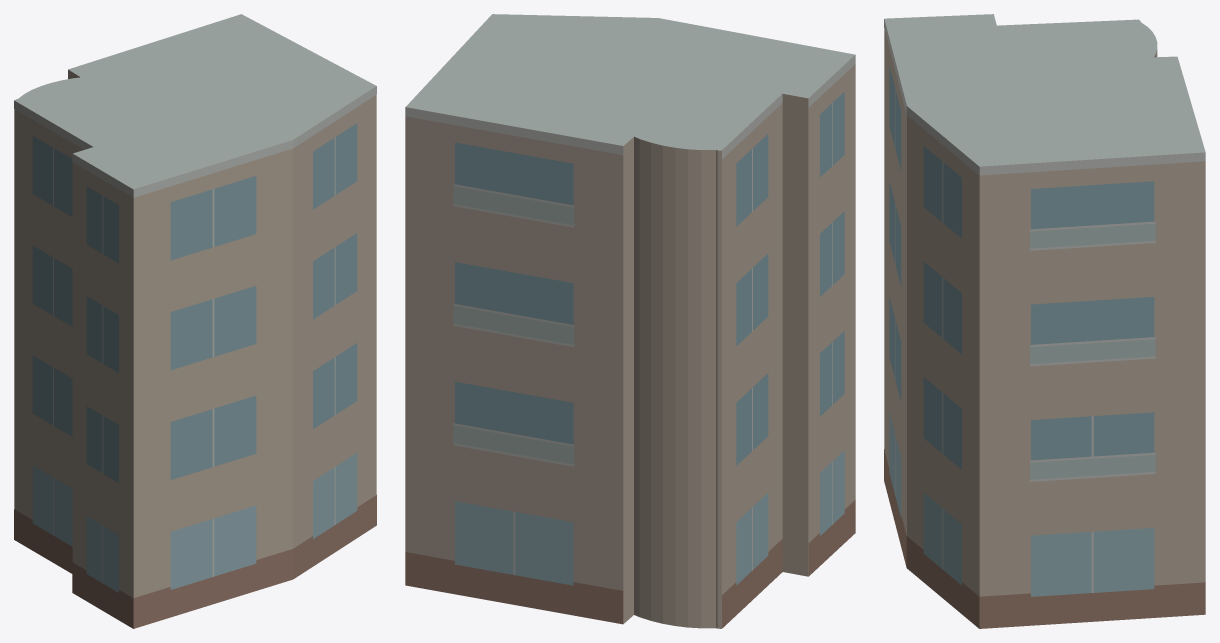
File: survey-upis-32501208.glb
3 renders of one model, left to right at view 1: azimuth 30°, elevation 25°; view 2: azimuth 150°, elevation 25°; view 3: azimuth 270°, elevation 25°, orthographic. The views are drawn at different scales.
Parts seen in each view (by area): view 1: survey-upis-32501208.tmp; view 2: survey-upis-32501208.tmp; view 3: survey-upis-32501208.tmp.
Part boxes in pixels (left/top/right/bottom): survey-upis-32501208.tmp: left=14, top=14, right=376, bottom=628; survey-upis-32501208.tmp: left=405, top=14, right=855, bottom=628; survey-upis-32501208.tmp: left=884, top=14, right=1205, bottom=628.
Size of the model in its own units: 9 by 12.7 by 8.02.
